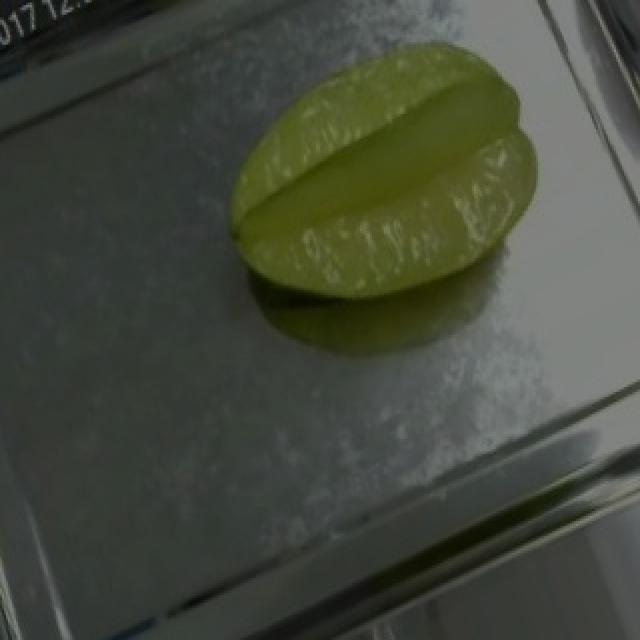fruit: (184, 5, 596, 372)
